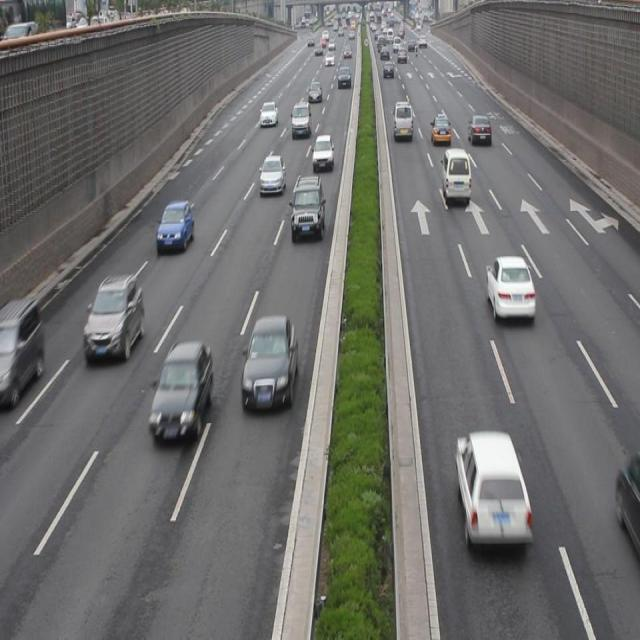car: (455, 430, 532, 544), (149, 338, 212, 441), (240, 314, 298, 410), (84, 272, 144, 362), (0, 297, 44, 405), (486, 254, 534, 321), (290, 174, 324, 240), (158, 199, 194, 253), (260, 154, 286, 194), (312, 132, 334, 173), (467, 114, 491, 147), (430, 114, 450, 146), (259, 101, 279, 128)
truck: (441, 147, 471, 201), (392, 99, 413, 142), (290, 101, 311, 137)
